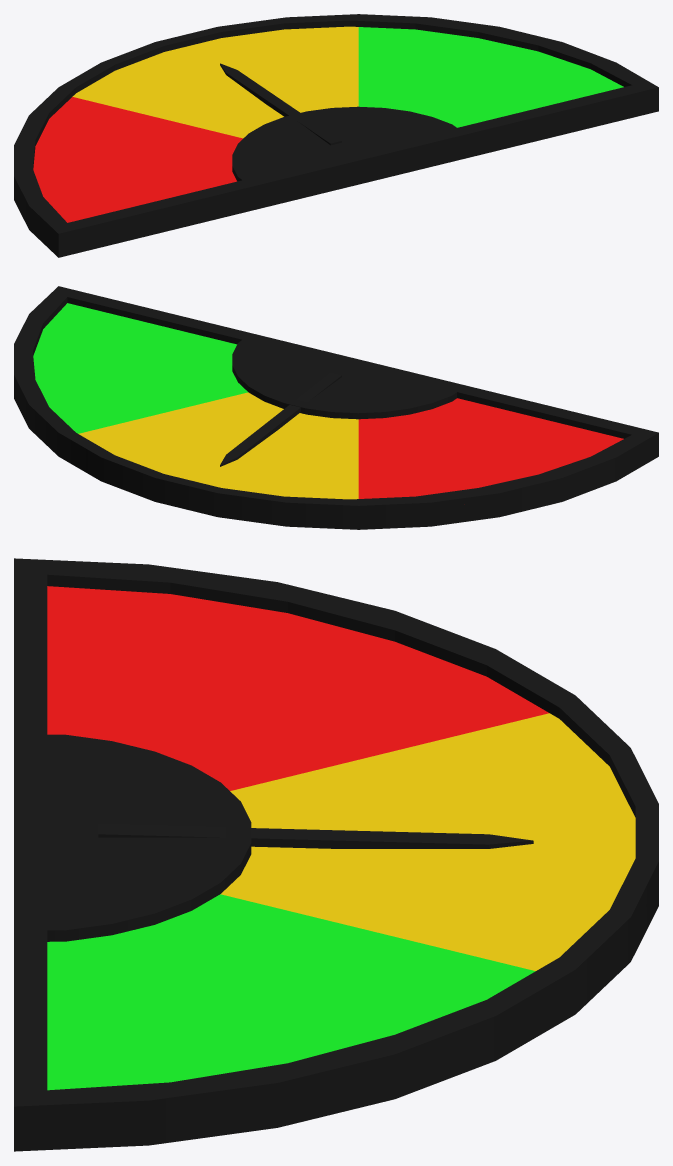
File: Score_Wheel.FBX
The picture shows the model from 3 angles, top to bottom: view 1: azimuth 30°, elevation 25°; view 2: azimuth 150°, elevation 25°; view 3: azimuth 270°, elevation 25°; orthographic projection. The views are drawn at different scales.
Parts seen in each view (by area): view 1: Cylinder001, border, Arrow; view 2: Cylinder001, border, Arrow; view 3: Cylinder001, border, Arrow.
Boxes of the visible parts, left/top/right/bottom form: Cylinder001: left=33, top=26, right=623, bottom=222; border: left=14, top=14, right=658, bottom=257; Arrow: left=220, top=63, right=341, bottom=145; Cylinder001: left=33, top=303, right=623, bottom=499; border: left=14, top=286, right=658, bottom=529; Arrow: left=220, top=372, right=341, bottom=466; Cylinder001: left=47, top=586, right=635, bottom=1090; border: left=14, top=558, right=658, bottom=1151; Arrow: left=98, top=824, right=533, bottom=848.
Bounding box in the file's own units: 1.4 × 0.0575 × 0.6962.
